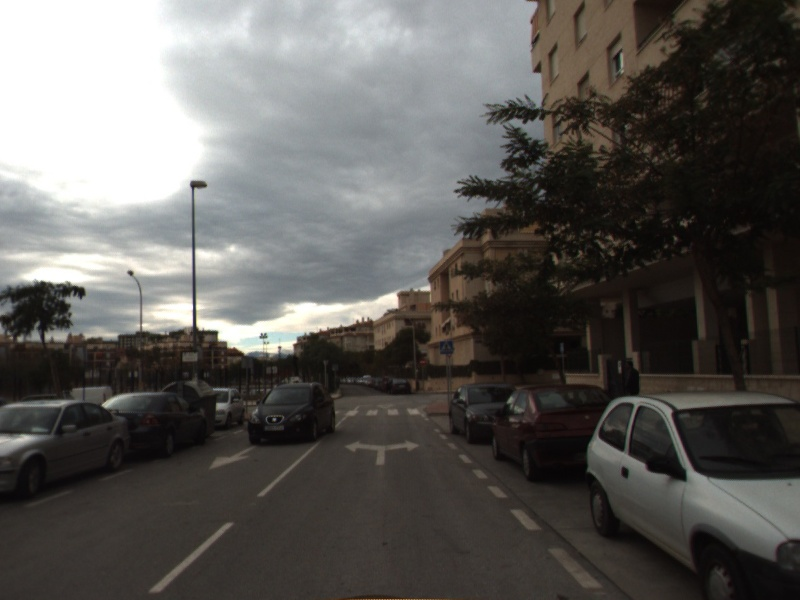LEFT_RIGHT: (343, 438, 422, 467)
